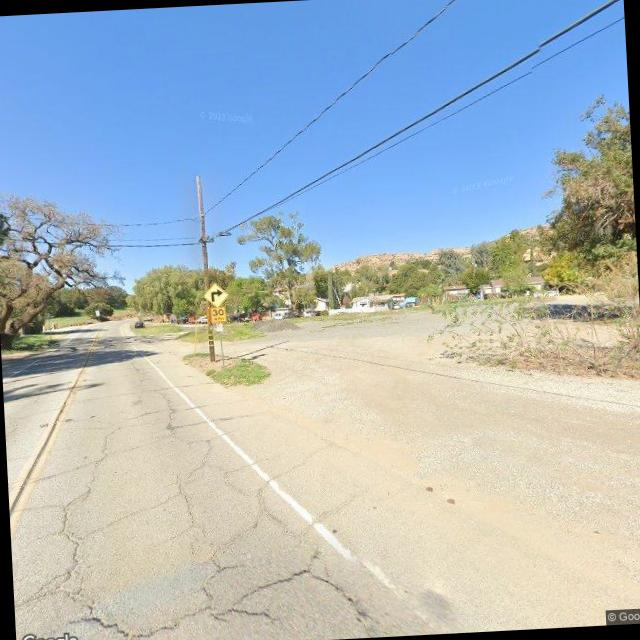crack: (3, 374, 307, 640)
